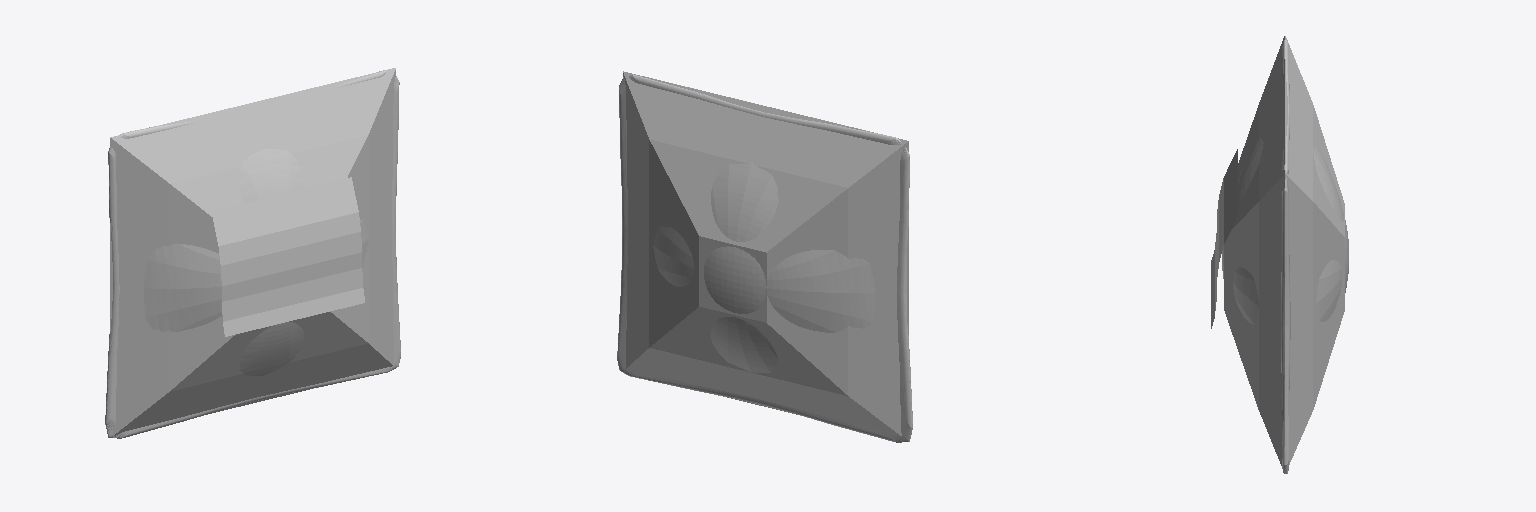
Rendered from beanbag&tag.obj.
3 views of the same model, side by side, from view 1: azimuth 30°, elevation 25°; view 2: azimuth 150°, elevation 25°; view 3: azimuth 270°, elevation 25° (orthographic).
Parts seen in each view (by area): view 1: UCX_beanbag&tag_Cube.003, beanbag&tag_Plane.000; view 2: UCX_beanbag&tag_Cube.003, beanbag&tag_Plane.000; view 3: UCX_beanbag&tag_Cube.003, beanbag&tag_Plane.000.
Part boxes in pixels (x1,y1,x2,y2): UCX_beanbag&tag_Cube.003: (110,68,395,437); beanbag&tag_Plane.000: (105,70,400,438); UCX_beanbag&tag_Cube.003: (623,71,908,436); beanbag&tag_Plane.000: (617,74,912,442); UCX_beanbag&tag_Cube.003: (1224,36,1344,465); beanbag&tag_Plane.000: (1211,39,1348,473).
Bounding box in the file's own units: 0.1386 × 0.1366 × 0.0565.